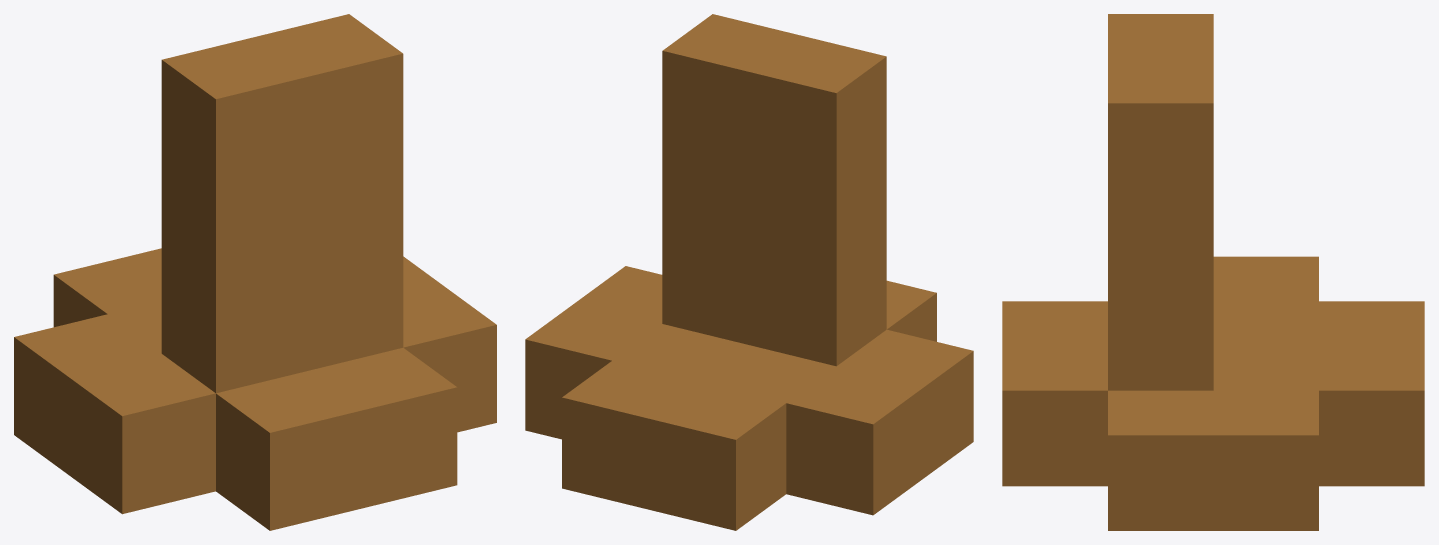
The model's file is foot.glb.
The picture shows the model from 3 angles, left to right: view 1: azimuth 30°, elevation 25°; view 2: azimuth 150°, elevation 25°; view 3: azimuth 270°, elevation 25°; orthographic projection. The views are drawn at different scales.
Visible parts, largest first — view 1: VoxelVisual; view 2: VoxelVisual; view 3: VoxelVisual.
Boxes of the visible parts, x1,y1,x2,y2 form: VoxelVisual: (14,14,496,530); VoxelVisual: (525,14,973,530); VoxelVisual: (1002,14,1424,530).
Size of what is drawn, in the model's own units: 0.25 by 0.25 by 0.25.
